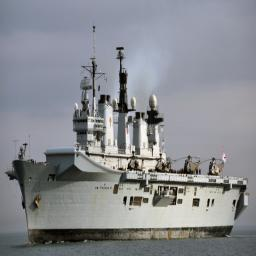Portanaves: (11, 16, 252, 250)
